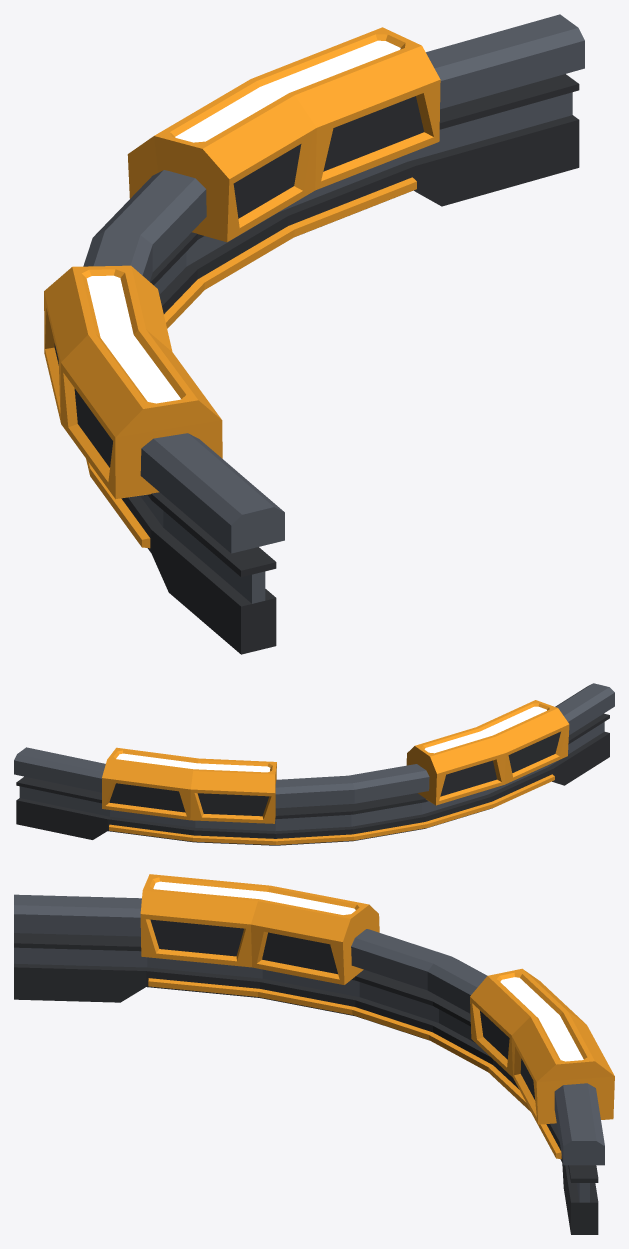
File: SM_90_degree_turn_of_the_conveyor_section.glb
The picture shows the model from 3 angles, top to bottom: view 1: azimuth 30°, elevation 25°; view 2: azimuth 150°, elevation 25°; view 3: azimuth 270°, elevation 25°; orthographic projection. The views are drawn at different scales.
Parts seen in each view (by area): view 1: SM_90_degree_turn_of_the_conveyor_section; view 2: SM_90_degree_turn_of_the_conveyor_section; view 3: SM_90_degree_turn_of_the_conveyor_section.
Boxes of the visible parts, x1,y1,x2,y2 form: SM_90_degree_turn_of_the_conveyor_section: [44, 14, 584, 654]; SM_90_degree_turn_of_the_conveyor_section: [14, 683, 614, 845]; SM_90_degree_turn_of_the_conveyor_section: [14, 874, 614, 1234].
Size of the model in its own units: 1.05 by 0.2227 by 1.05.
2 materials, 1 textured.
